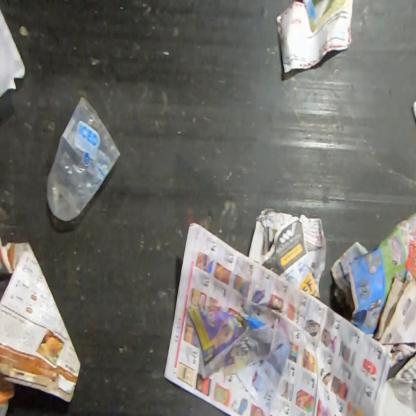cardboard: (0, 235, 82, 405), (312, 0, 335, 19)
rigid_plastic: (45, 96, 122, 223)
